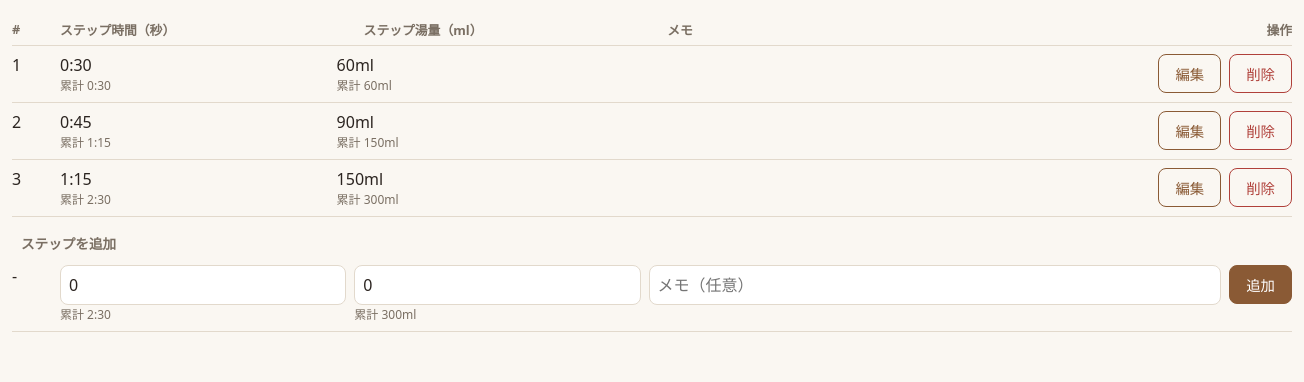
it: PourStepEditor.vue › validateStepInput (via addStep) › accepts a time delta of exactly 0, but rejects a water delta of exactly 0
Click the button "追加".
click(1261, 284)  # box 1229,265 -> 1292,304
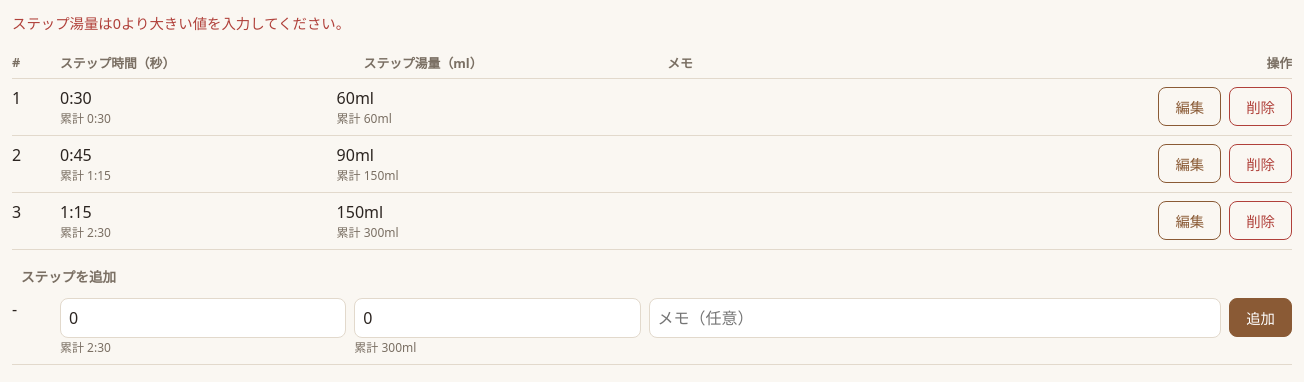
Check: the text "ステップ湯量は0より大きい値を入力してください。" is shown, box 12,14 -> 350,33
